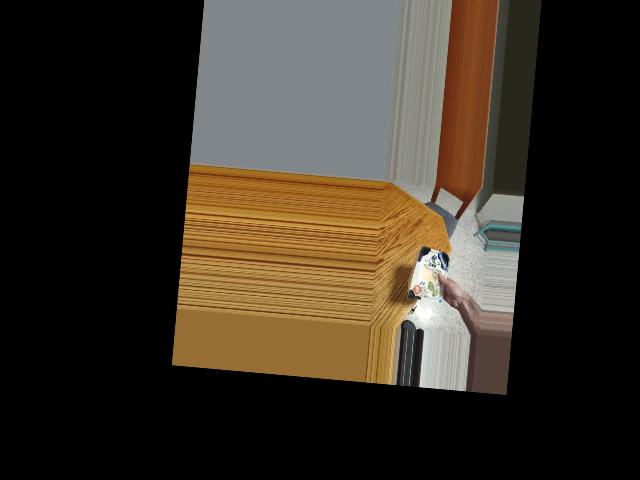cheese: (409, 249, 457, 296)
